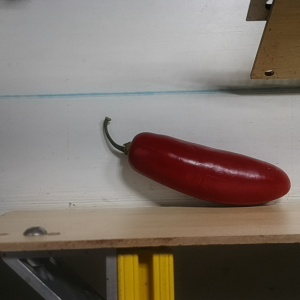Cut Point: (117, 130, 151, 170)
